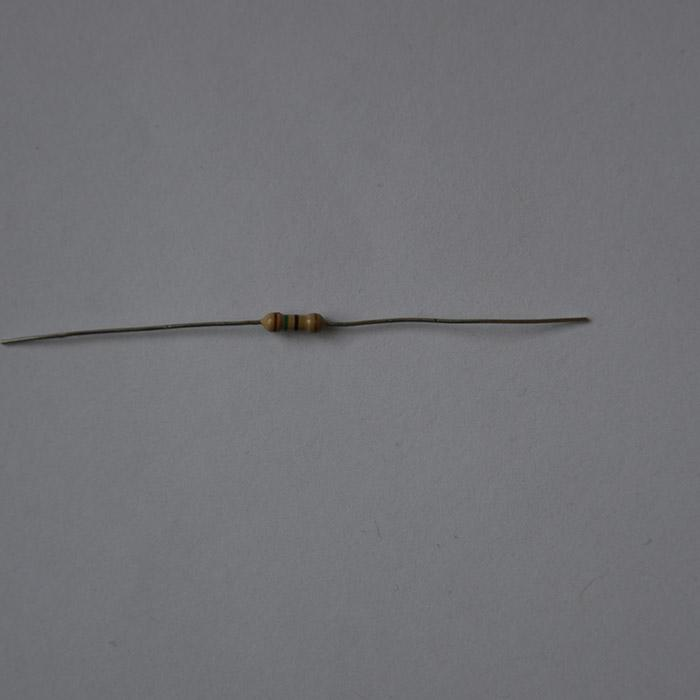resistor: (261, 311, 325, 333)
